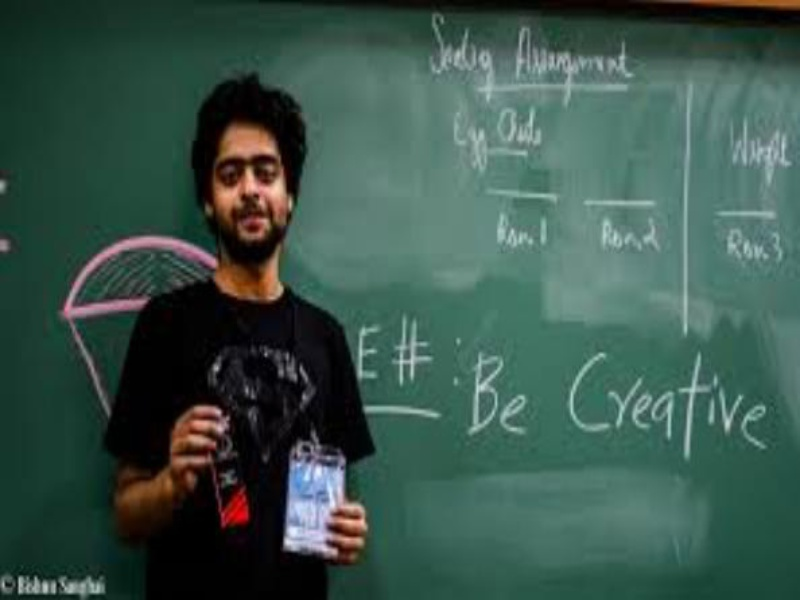TsisyArotava: (183, 84, 317, 263)
